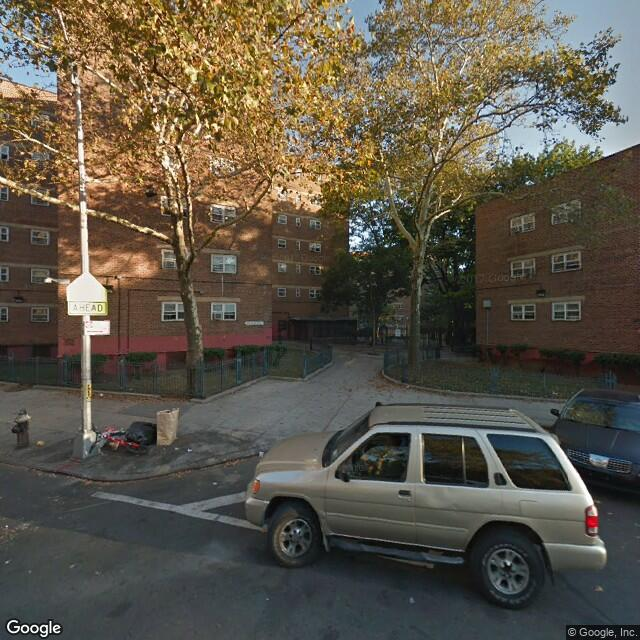litter: (209, 479, 220, 487), (407, 595, 415, 603), (99, 391, 106, 396)
